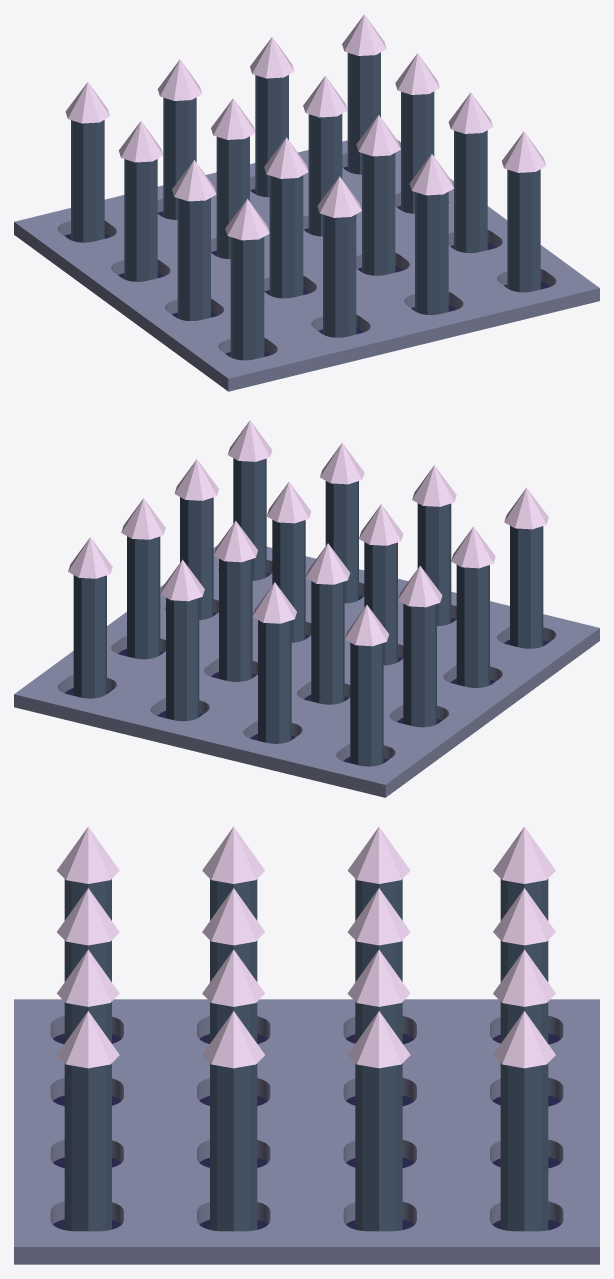
The model's file is Spear.fbx.
3 views of the same model, one above another, from view 1: azimuth 30°, elevation 25°; view 2: azimuth 150°, elevation 25°; view 3: azimuth 270°, elevation 25° (orthographic). The views are drawn at different scales.
Visible parts, largest first — view 1: Spear_Head, Spear_Base; view 2: Spear_Head, Spear_Base; view 3: Spear_Base, Spear_Head.
Part boxes in pixels (<box>): Spear_Head: <box>65,14,546,360</box>; Spear_Base: <box>14,140,599,391</box>; Spear_Head: <box>68,420,548,766</box>; Spear_Base: <box>14,545,599,797</box>; Spear_Base: <box>14,999,599,1264</box>; Spear_Head: <box>56,826,555,1231</box>.
Bounding box in the file's own units: 180 × 75 × 180.
